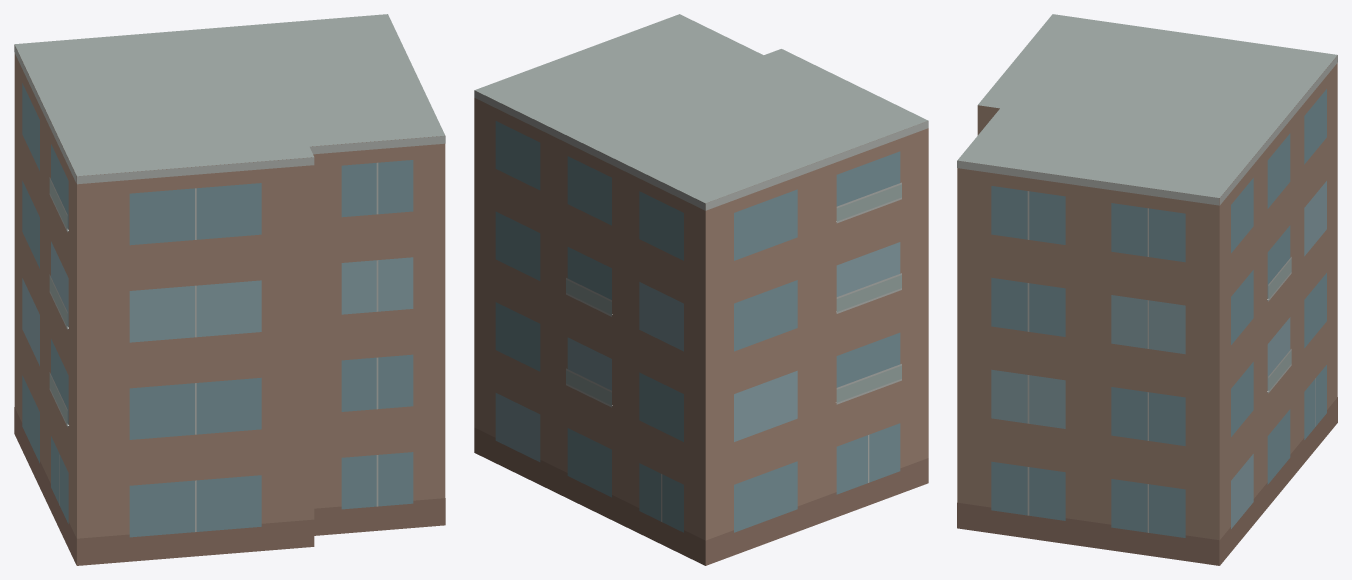
Rendered from survey-upis-32709541.glb.
The picture shows the model from 3 angles, left to right: view 1: azimuth 30°, elevation 25°; view 2: azimuth 150°, elevation 25°; view 3: azimuth 270°, elevation 25°; orthographic projection. The views are drawn at different scales.
Visible parts, largest first — view 1: survey-upis-32709541.tmp; view 2: survey-upis-32709541.tmp; view 3: survey-upis-32709541.tmp.
Boxes of the visible parts, box(x1,y1,x2,y2) form: survey-upis-32709541.tmp: box(14, 14, 445, 565); survey-upis-32709541.tmp: box(474, 14, 928, 565); survey-upis-32709541.tmp: box(957, 14, 1337, 565).
Bounding box in the file's own units: 12.78 × 11.9 × 11.17.
